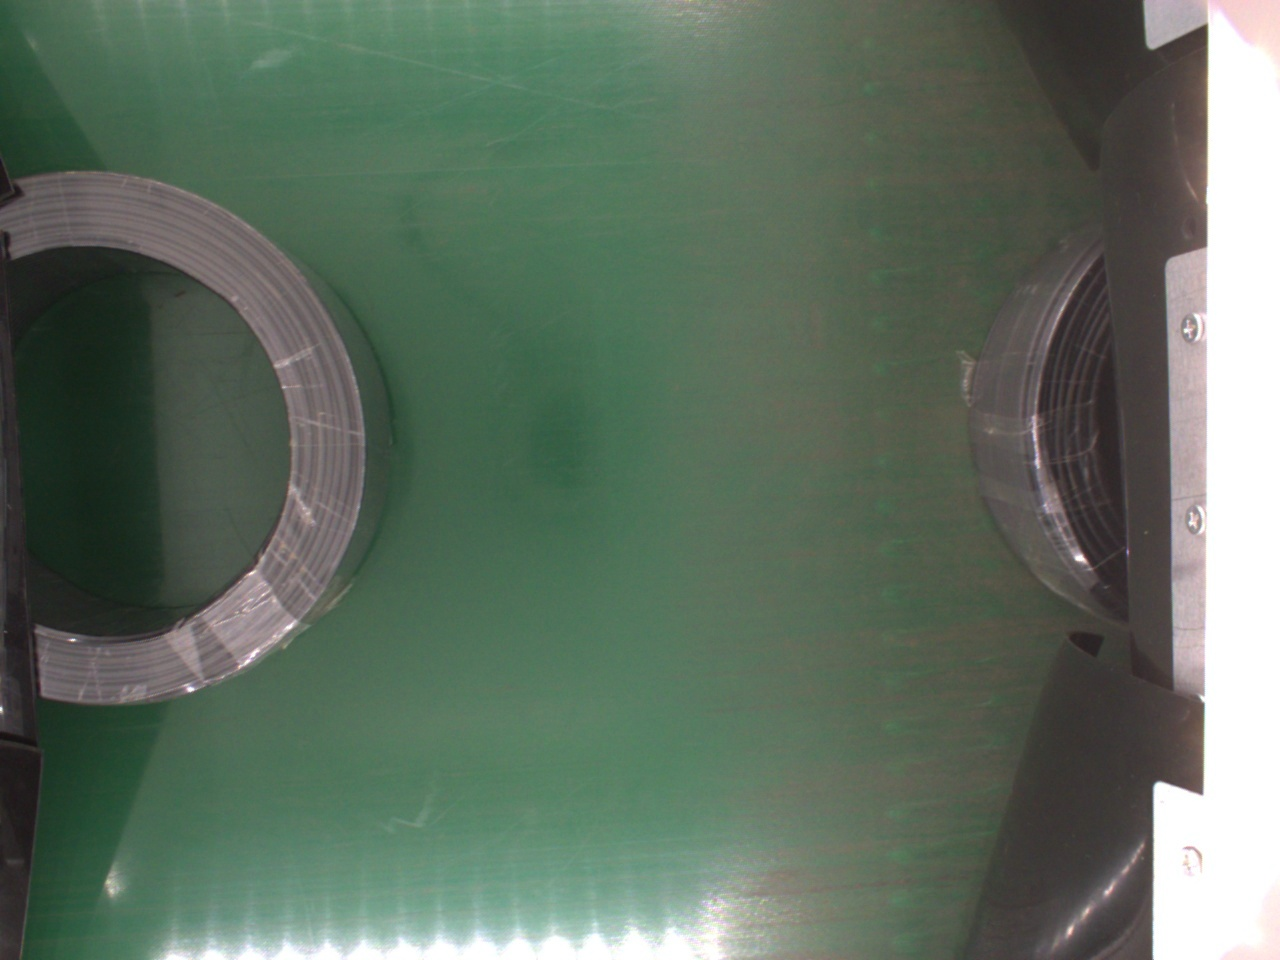black: (7, 175, 381, 703), (967, 223, 1128, 616)
